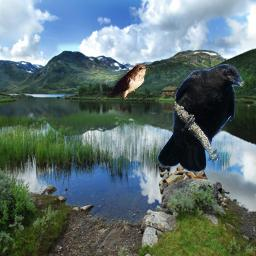Crow: (157, 64, 245, 173)
Cuckoo: (103, 64, 152, 100)
